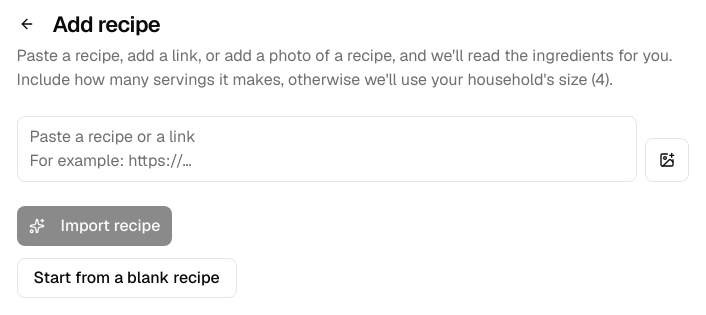
Scenario: RecipeImportClient progress steps › shows URL progress steps when importing a URL
The width and height of the screenshot is (706, 315).
Type "https://example.com/recipe" into the text box. click: (326, 149)
box: left=16, top=116, right=636, bottom=182
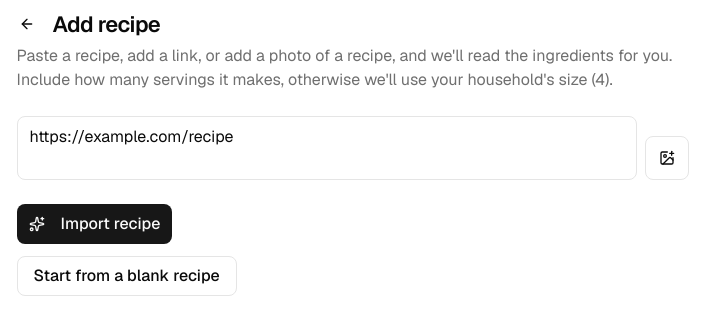
Click the button "Import recipe". click: (94, 224)
box: left=16, top=204, right=172, bottom=244
Wait 10300 ms
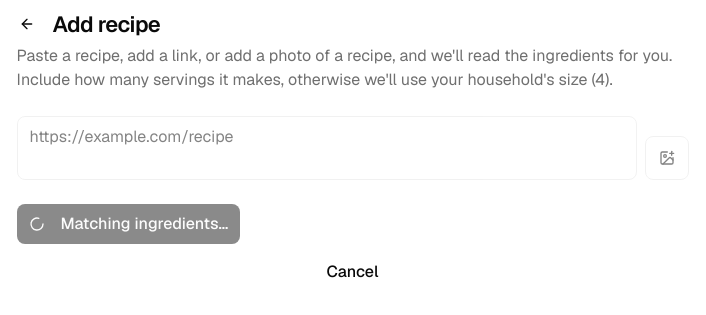
expect the text "Matching ingredients…" is shown: met, box left=60, top=212, right=228, bottom=236
